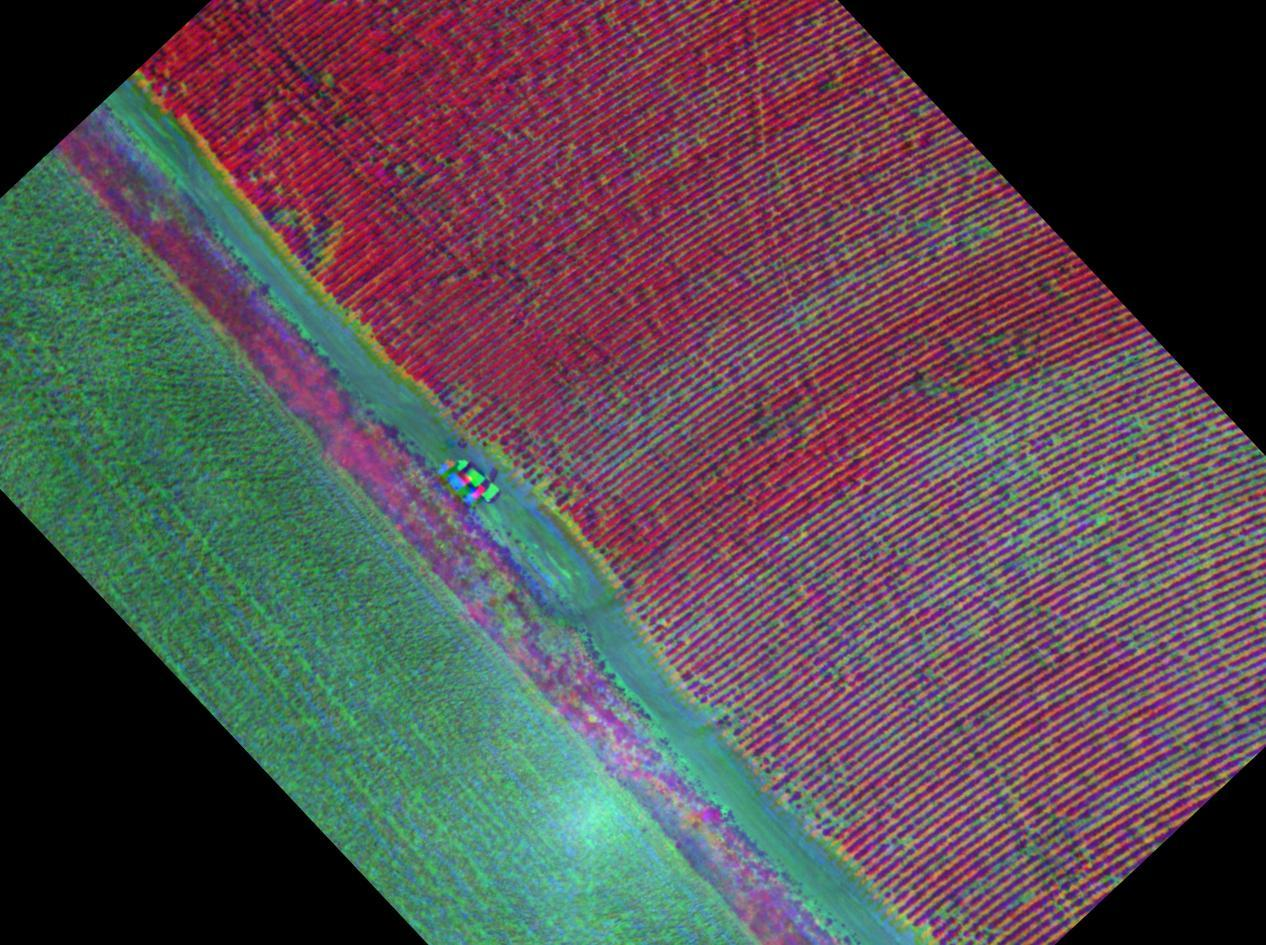dc: (1001, 403, 1114, 505), (741, 728, 847, 829), (1171, 573, 1251, 663), (1048, 510, 1133, 593), (1156, 408, 1222, 486)
